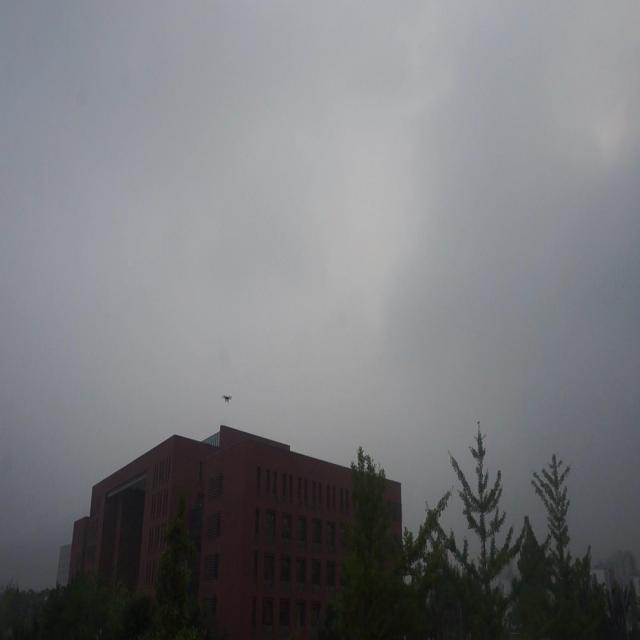UAV: (222, 395, 232, 404)
